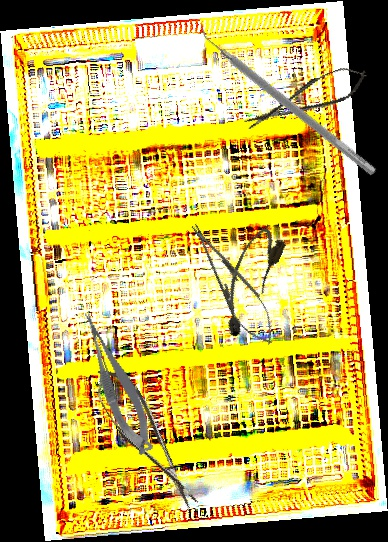Cannula: (209, 223, 289, 342)
Micro Scissor: (86, 358, 206, 519), (77, 304, 159, 461), (238, 60, 373, 137)
Needle Holder: (179, 215, 286, 353)
Spatula Surgical: (190, 19, 384, 177)
